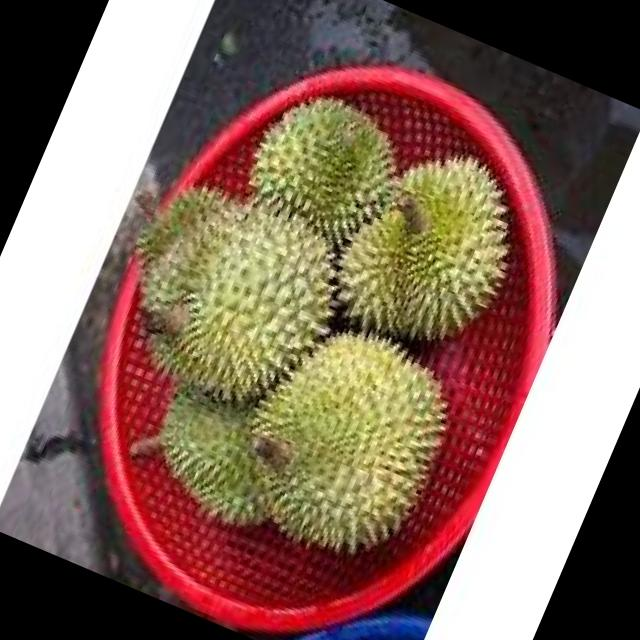fruit: (84, 236, 518, 640), (172, 35, 592, 407), (66, 134, 414, 468)
